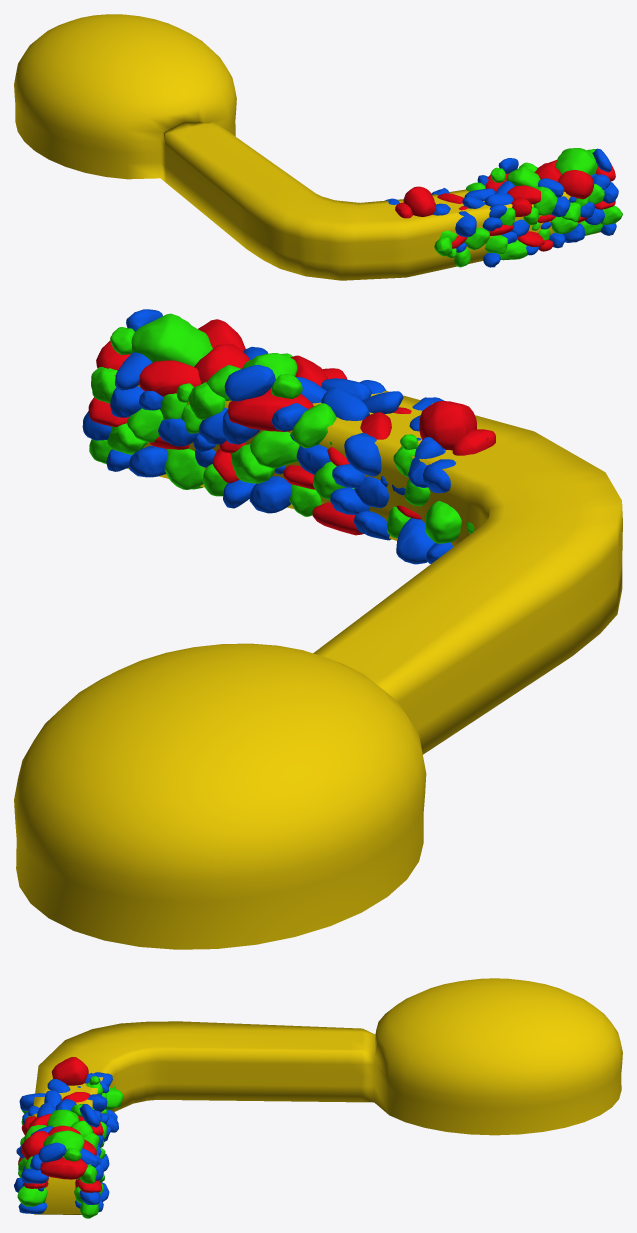
Rendered from kilpikonnanluolakivillä.fbx.
3 views of the same model, one above another, from view 1: azimuth 30°, elevation 25°; view 2: azimuth 150°, elevation 25°; view 3: azimuth 270°, elevation 25° (orthographic). The views are drawn at different scales.
Visible parts, largest first — view 1: Sphere.004, kivi3.004, kivi1.007, kivi1.024, kivi3.031, kivi3.013, kivi1.016, kivi2.066, kivi3.017, kivi3.056; view 2: Sphere.004, kivi3.004, kivi1.024, kivi1.015, kivi1.006, kivi3.024, kivi2.039, kivi3.036, kivi3.010, kivi2.057, kivi2.060, kivi3.044 (+9 smaller); view 3: Sphere.004, kivi1.001, kivi1.024, kivi3.004, kivi1.007, kivi3.008, kivi3.031, kivi2.005.
Boxes of the visible parts, box(x1,y1,x2,y2) form: Sphere.004: box(14, 14, 600, 280); kivi3.004: box(555, 148, 597, 175); kivi1.007: box(558, 170, 594, 199); kivi1.024: box(403, 186, 435, 216); kivi3.031: box(506, 166, 540, 187); kivi3.013: box(533, 186, 557, 215); kivi1.016: box(507, 185, 540, 204); kivi2.066: box(455, 211, 476, 237); kivi3.017: box(499, 239, 527, 260); kivi3.056: box(464, 227, 489, 249); Sphere.004: box(14, 375, 622, 949); kivi3.004: box(131, 313, 212, 366); kivi1.024: box(419, 401, 476, 450); kivi1.015: box(228, 388, 313, 431); kivi1.006: box(138, 360, 201, 396); kivi3.024: box(250, 430, 299, 468); kivi2.039: box(224, 364, 275, 401); kivi3.036: box(291, 403, 336, 448); kivi3.010: box(164, 448, 204, 489); kivi2.057: box(396, 518, 434, 564); kivi2.060: box(344, 433, 381, 476); kivi3.044: box(425, 501, 461, 543); Sphere.004: box(33, 978, 622, 1214); kivi1.001: box(40, 1157, 87, 1179); kivi1.024: box(51, 1057, 88, 1085); kivi3.004: box(43, 1130, 84, 1157); kivi1.007: box(21, 1131, 49, 1160); kivi3.008: box(17, 1186, 47, 1206); kivi3.031: box(47, 1109, 79, 1127); kivi2.005: box(38, 1142, 66, 1162).
Bounding box in the file's own units: 42.21 × 11.05 × 60.17.
